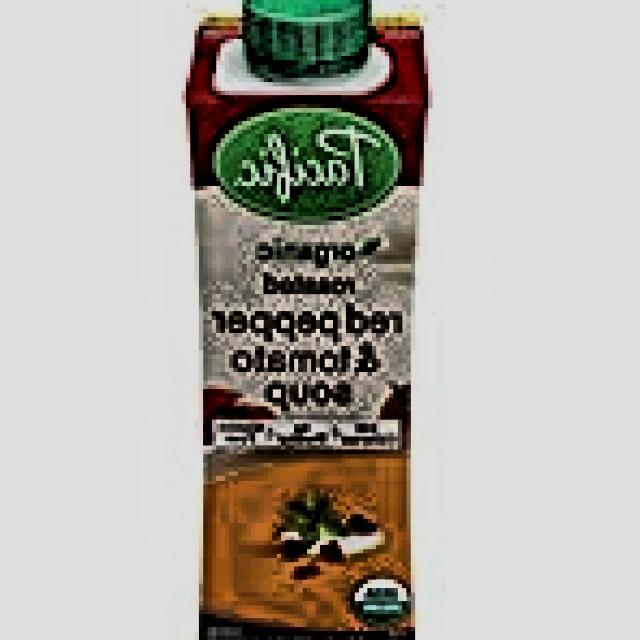cardboard: (186, 4, 432, 640)
